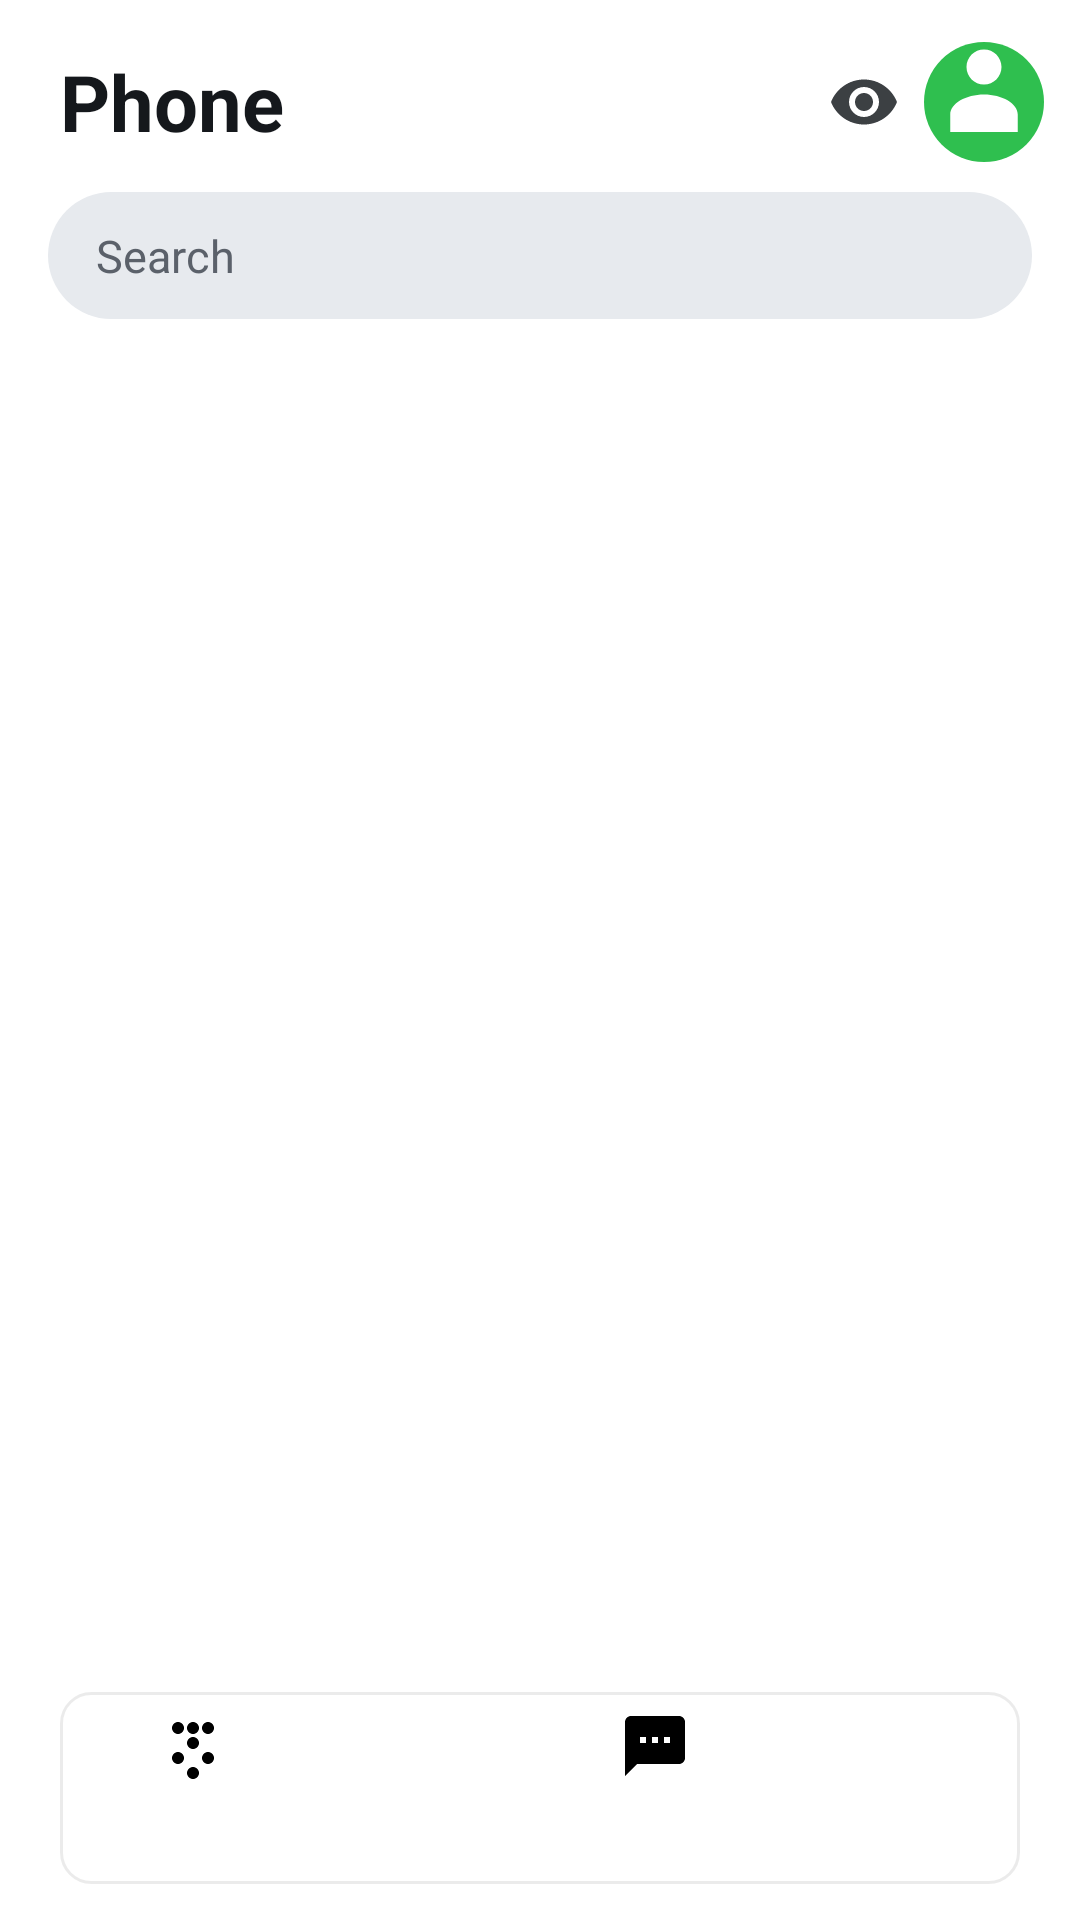

Named icons in this screenshot (1080*1920) and their bounding boxes, bbox=[x1, y1, x2, y2]:
Hide phone numbers: bbox=[831, 79, 897, 125]
